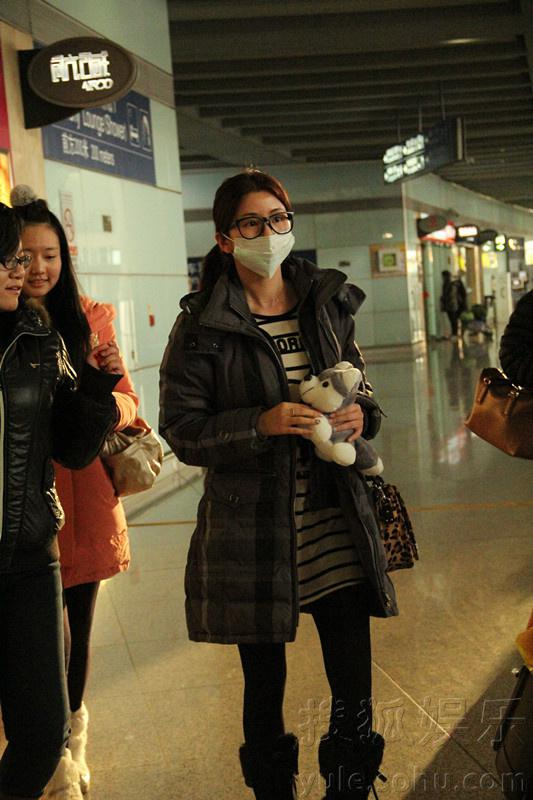NONE: (21, 245, 62, 295), (1, 246, 30, 311)
WRONG: (226, 204, 297, 275)
